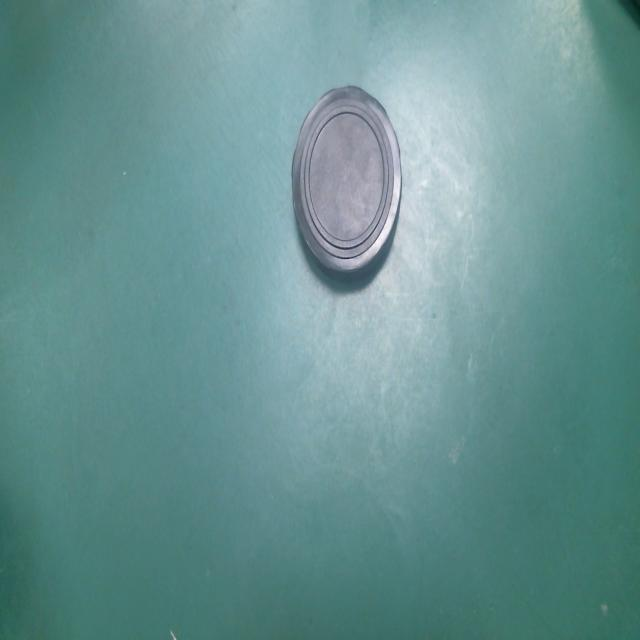cover: (284, 73, 416, 295)
